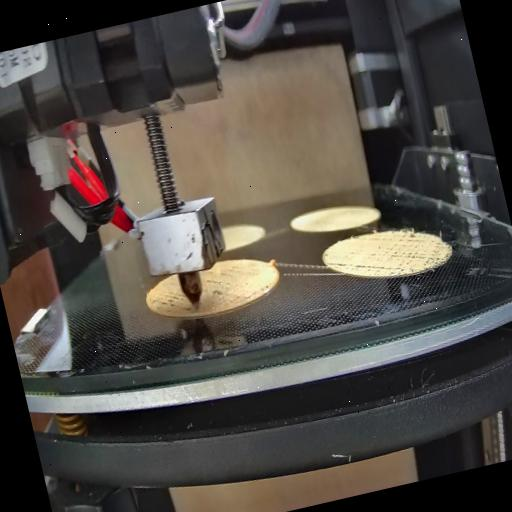under_extrusion: (346, 221, 447, 278), (200, 254, 272, 304), (144, 279, 190, 319), (324, 250, 346, 275)
